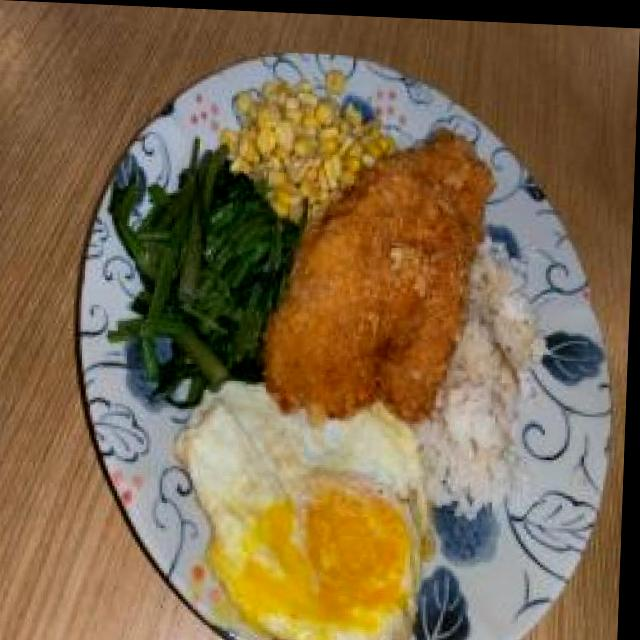fried_chicken: (279, 115, 487, 412)
fried_eggs: (181, 392, 434, 640)
rice: (436, 256, 541, 504)
water_spinach: (127, 158, 289, 383)
